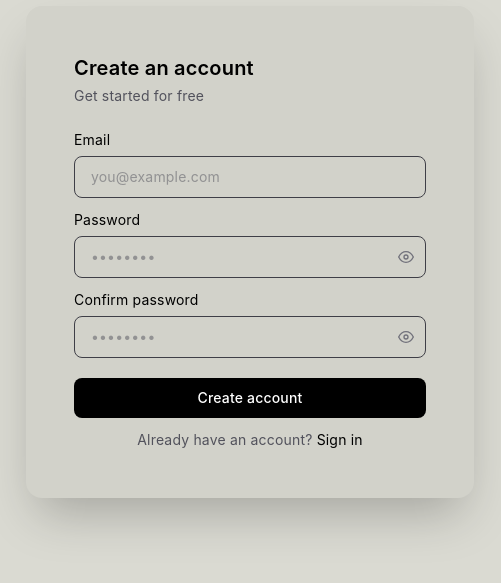
Test: RegisterForm › Validation › shows error for invalid email
Type "not-an-email" into the field with placeholder "you@example.com".
click(250, 177); type("not-an-email")  # box [74,156,426,198]
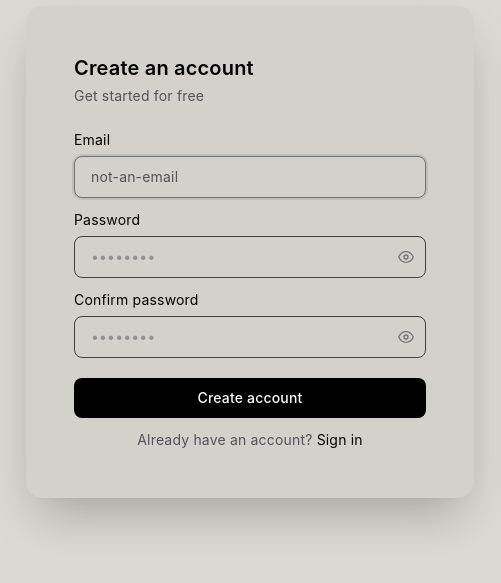
Click the button "Create account".
click(250, 398)  # box [74,378,426,418]
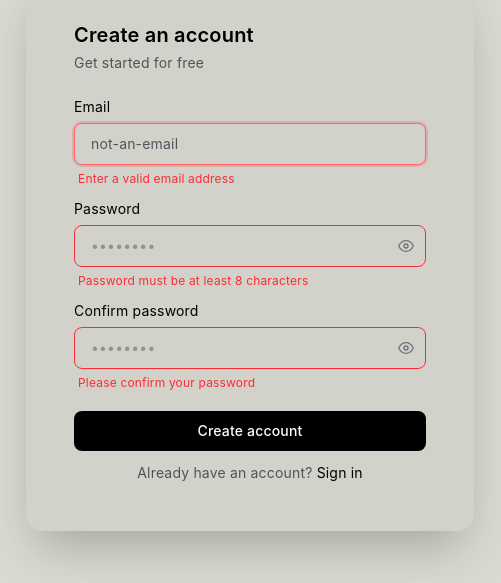
Check: the text "Enter a valid email address" is shown, box [78,171,235,186]
